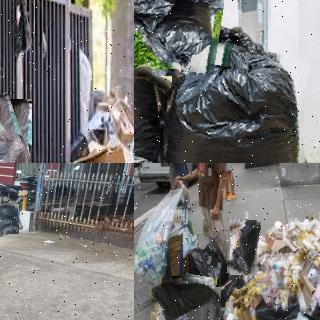Garbage: (159, 41, 316, 163), (134, 0, 221, 72), (134, 69, 180, 163), (153, 272, 226, 320), (0, 95, 42, 163), (184, 236, 230, 286), (228, 219, 259, 276), (0, 202, 21, 236)
